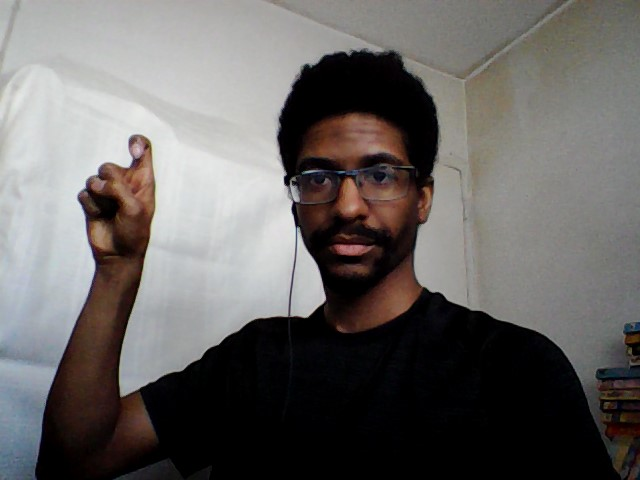x: (73, 130, 163, 260)
